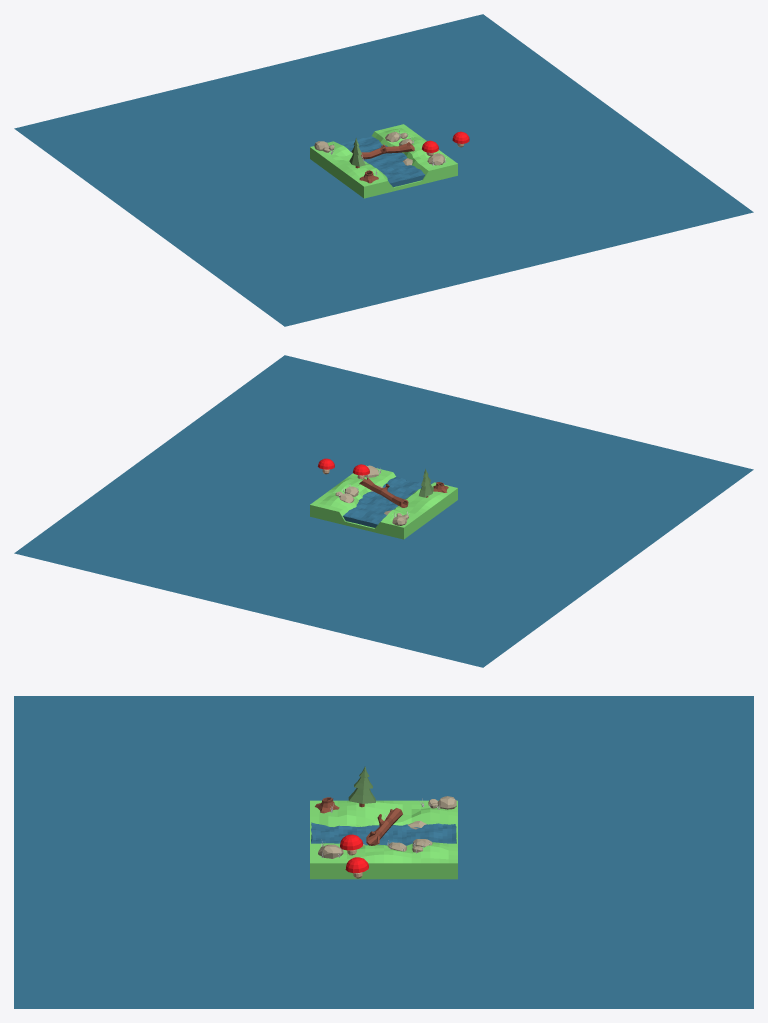
File: forest - kopia.fbx
3 views of the same model, one above another, from view 1: azimuth 30°, elevation 25°; view 2: azimuth 150°, elevation 25°; view 3: azimuth 270°, elevation 25° (orthographic). The views are drawn at different scales.
Parts seen in each view (by area): view 1: Plane.099, Plane.080, Plane.081; view 2: Plane.099, Plane.080, Plane.081; view 3: Plane.099, Plane.080, Plane.081, Circle.012, Cylinder.004.
Part boxes in pixels (box(x1,y1,x2,y2)): Plane.099: box(14, 14, 753, 326); Plane.080: box(310, 124, 457, 198); Plane.081: box(340, 136, 425, 187); Plane.099: box(14, 355, 753, 667); Plane.080: box(310, 465, 457, 539); Plane.081: box(343, 477, 421, 527); Plane.099: box(14, 696, 753, 1008); Plane.080: box(310, 800, 457, 879); Plane.081: box(311, 822, 456, 845); Circle.012: box(348, 766, 375, 807); Cylinder.004: box(366, 808, 402, 845).
Bounding box in the file's own units: 5973 × 565 × 5973.
